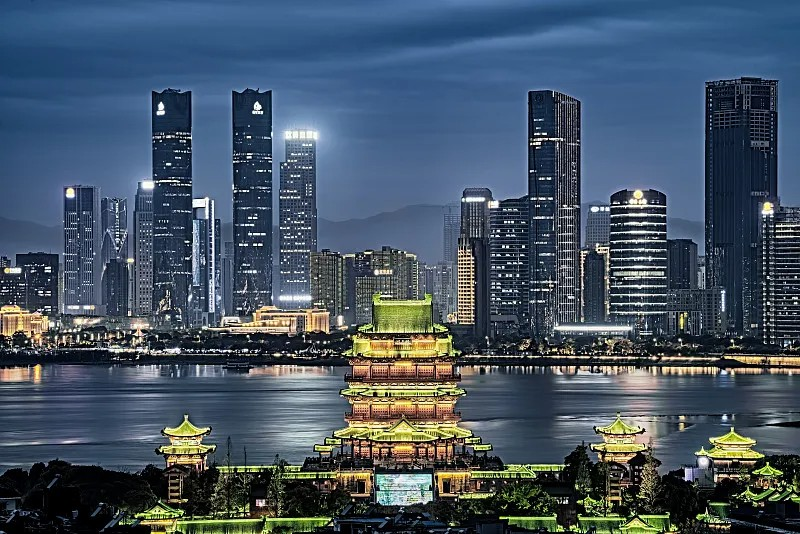Teng: (313, 292, 493, 466)
